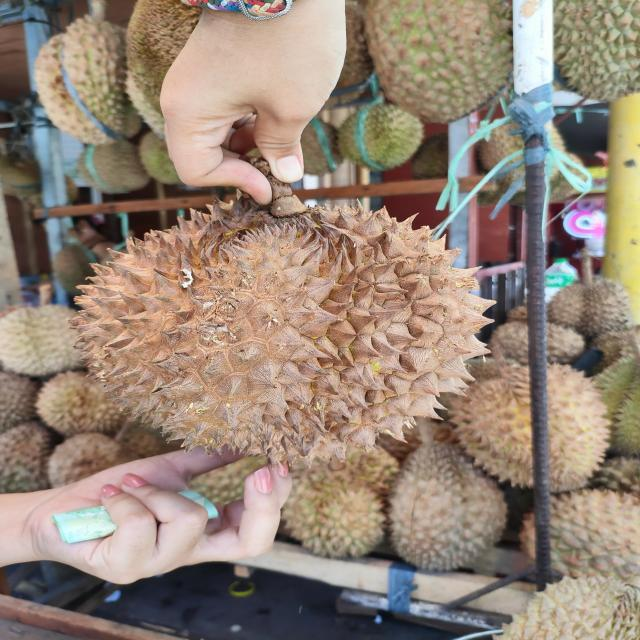mature: (59, 203, 500, 467)
